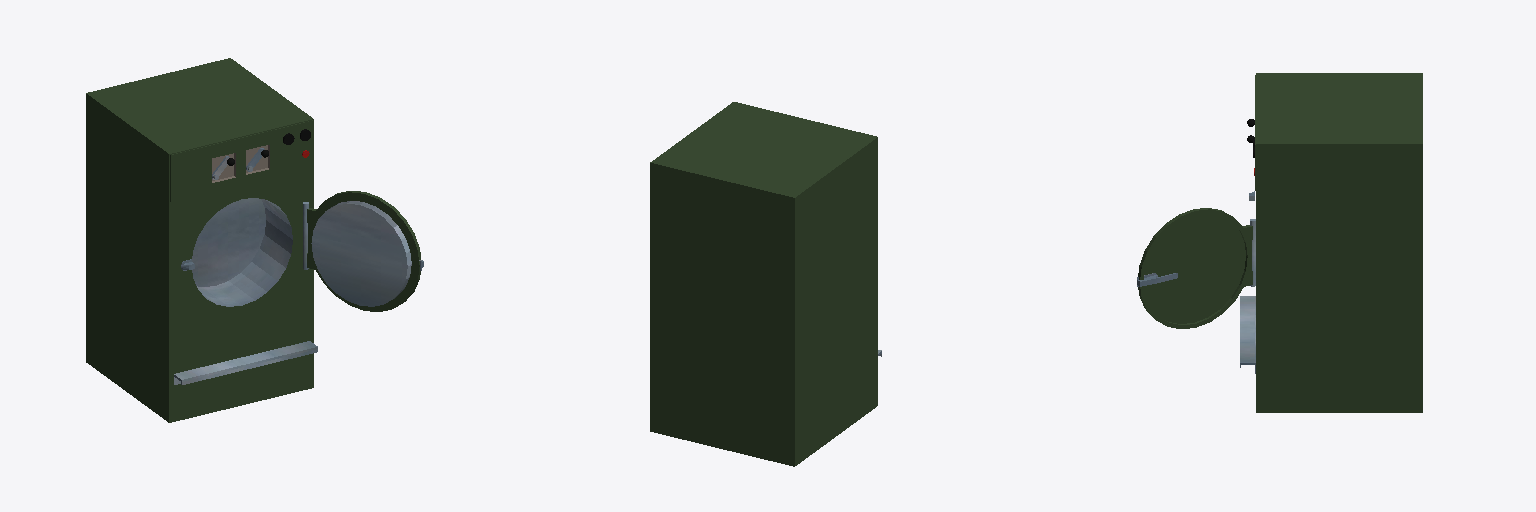
The picture shows the model from 3 angles: view 1: azimuth 30°, elevation 25°; view 2: azimuth 150°, elevation 25°; view 3: azimuth 270°, elevation 25°; orthographic projection.
Visible parts, largest first — view 1: Dryer.obj; view 2: Dryer.obj; view 3: Dryer.obj.
Boxes of the visible parts, box(x1,y1,x2,y2) form: Dryer.obj: box(86, 58, 423, 422); Dryer.obj: box(650, 102, 881, 466); Dryer.obj: box(1137, 73, 1422, 412).
Bounding box in the file's own units: 14.91 × 19.45 × 18.78.
1 materials, 1 textured.